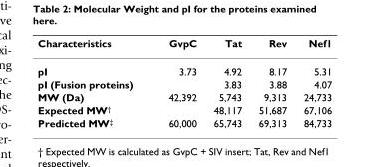table: (37, 36, 331, 128)
table column: (37, 36, 150, 128), (150, 36, 204, 128), (204, 36, 249, 128), (249, 36, 294, 128), (294, 36, 331, 128)
table column header: (37, 36, 331, 56)
table row: (37, 56, 331, 77), (37, 36, 331, 56), (37, 77, 331, 90), (37, 90, 331, 103), (37, 103, 331, 116), (37, 116, 331, 128)
